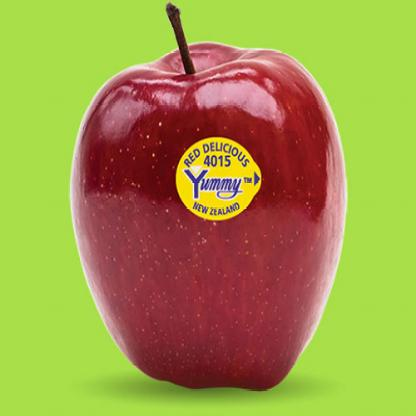apple: (73, 42, 344, 408)
